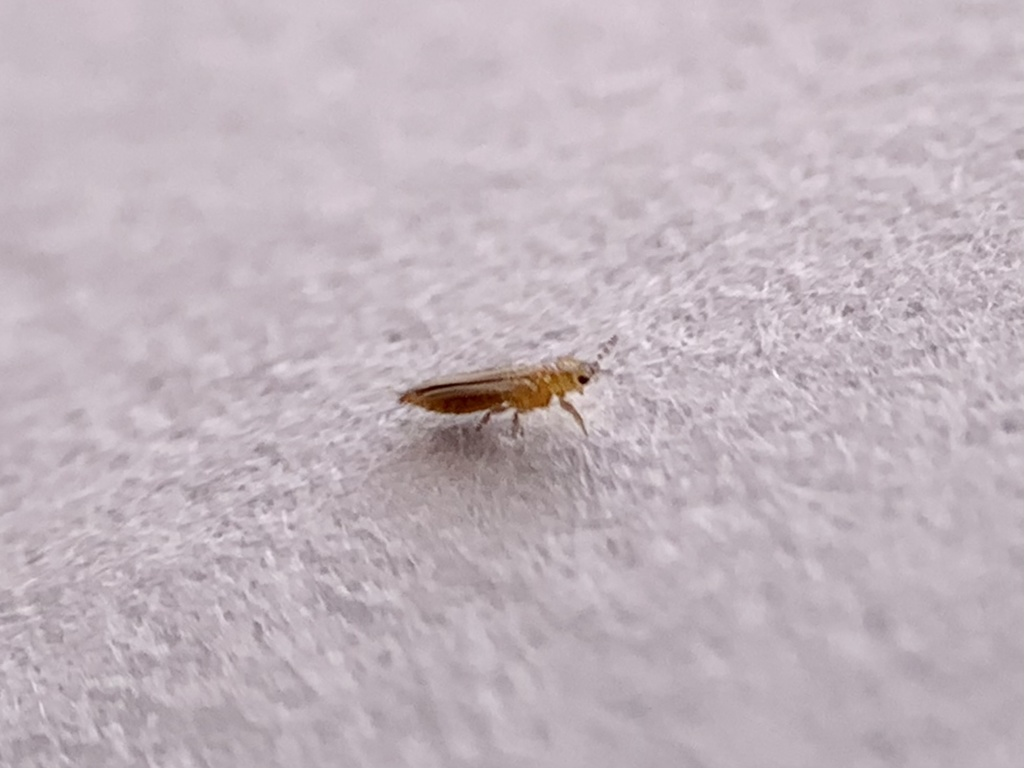tiny_pests: (341, 277, 680, 505)
